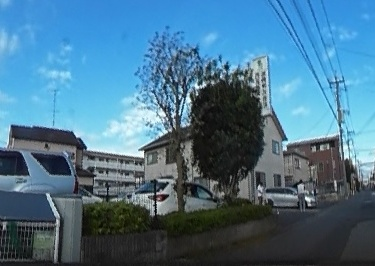person: (294, 178, 307, 209), (254, 180, 264, 202)
